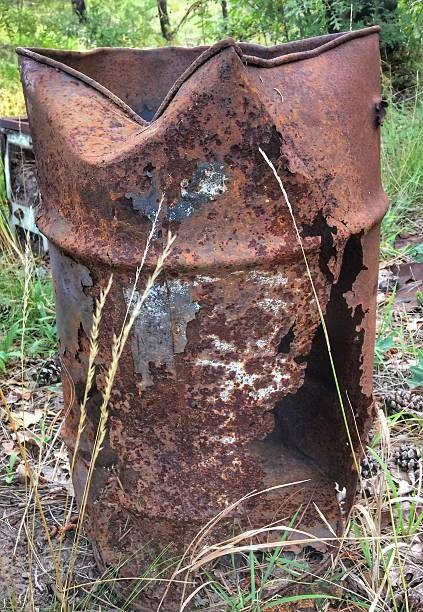metal: (10, 15, 391, 600)
